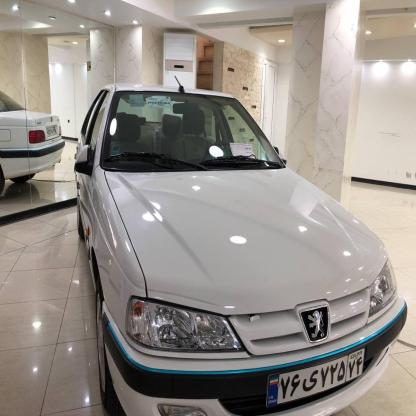Car: (61, 67, 394, 416), (0, 85, 74, 195)
